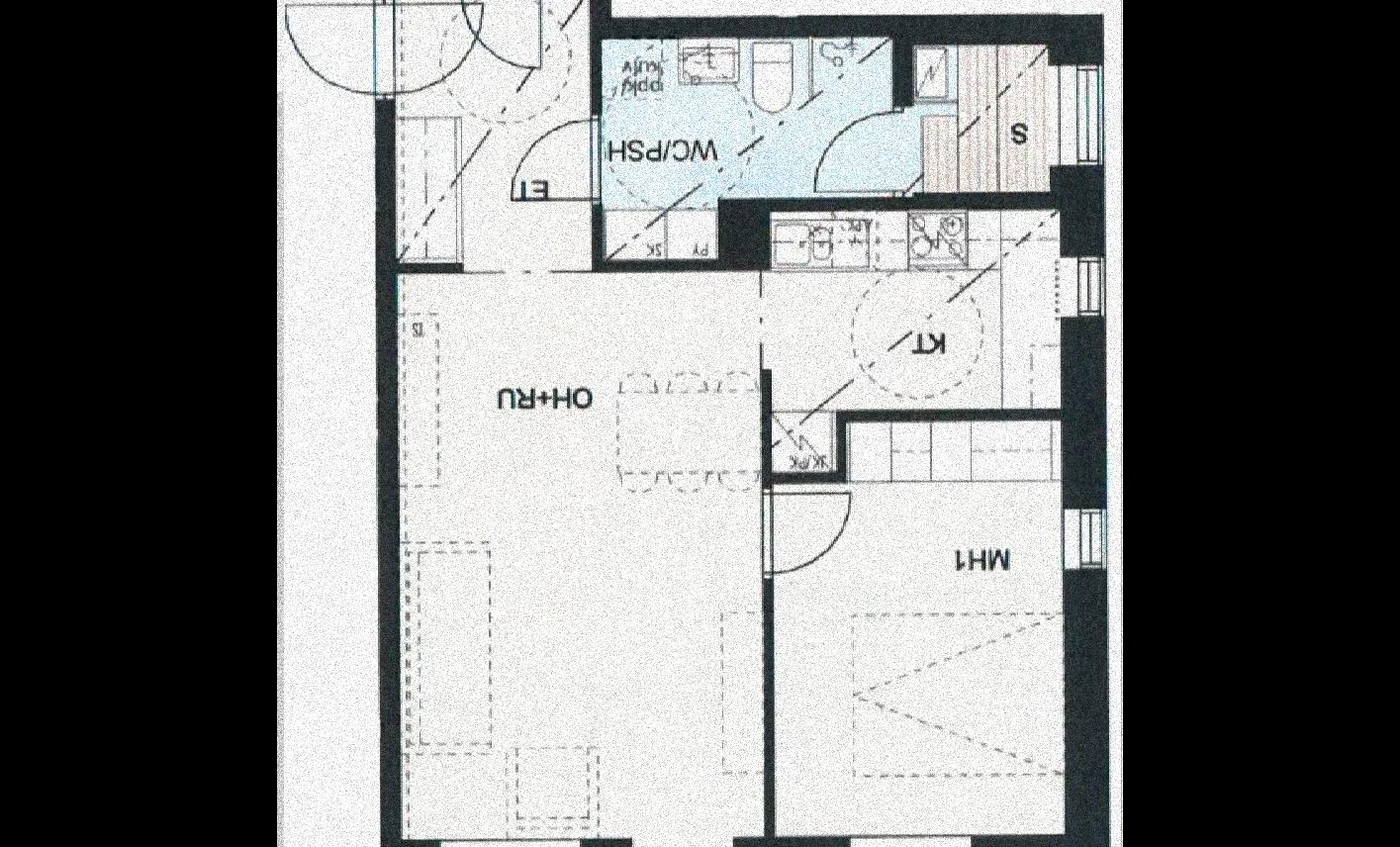door: (282, 0, 485, 96), (752, 489, 854, 578), (805, 106, 904, 194), (451, 0, 544, 76)
window: (1073, 64, 1103, 162), (1078, 513, 1105, 571), (1074, 259, 1102, 314)
zone: (394, 272, 764, 843), (776, 474, 1064, 837), (775, 206, 1060, 474), (602, 46, 1046, 207), (398, 0, 587, 266), (601, 206, 725, 263)
